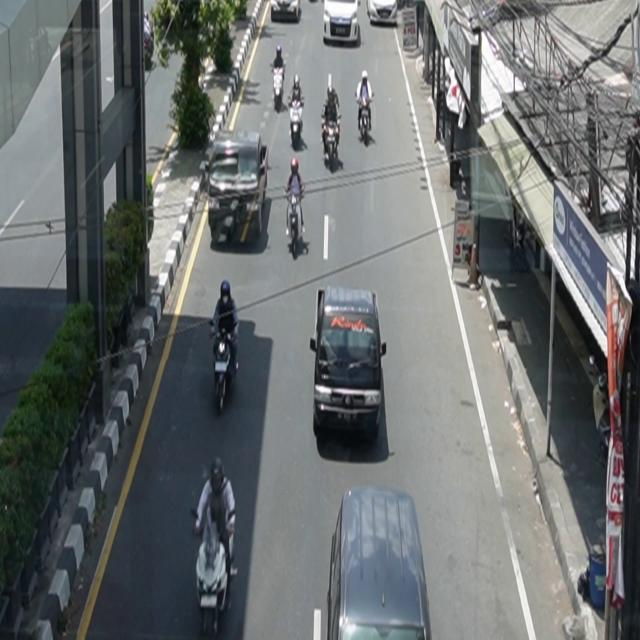car: (327, 487, 433, 640), (310, 286, 388, 441), (208, 129, 269, 245), (323, 1, 361, 47), (367, 1, 398, 26), (271, 1, 302, 24)
